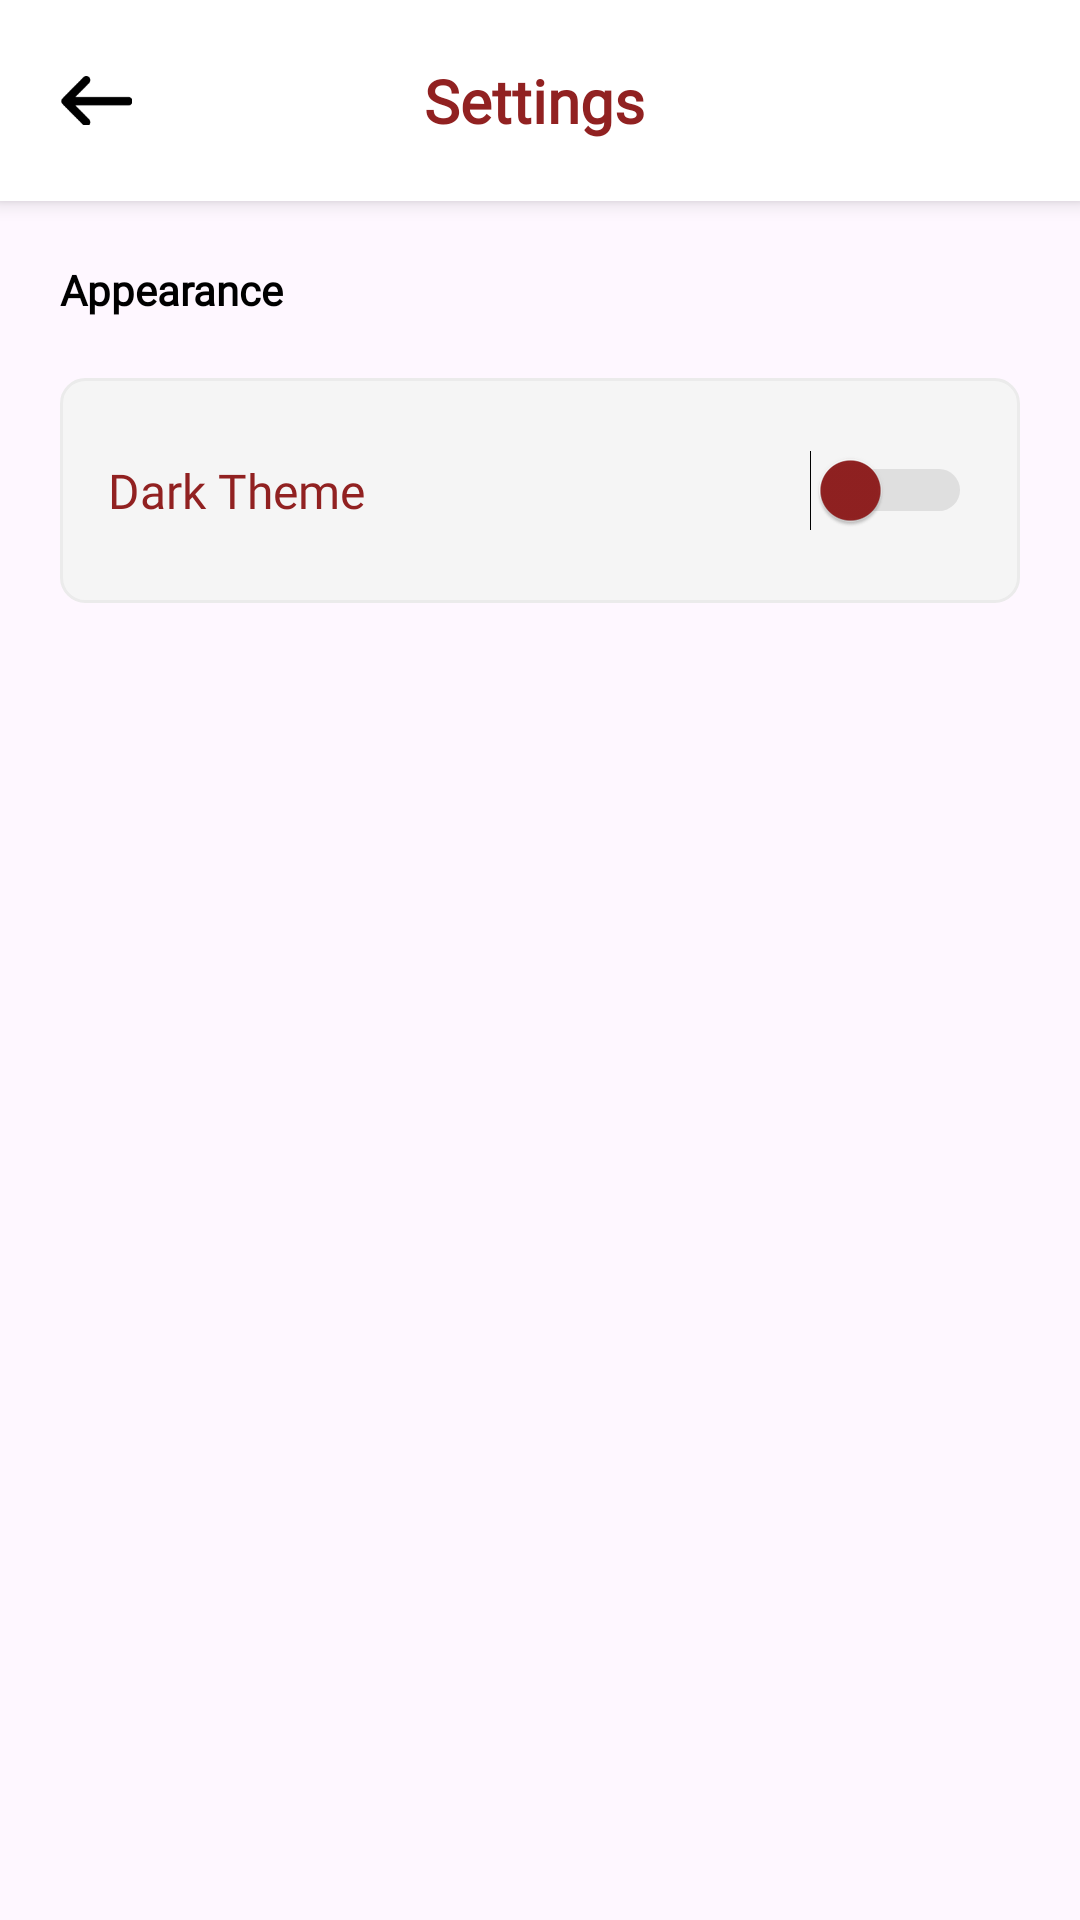

Point at icon controls on the screen. Image size 1080 × 1920, points as point (x, y).
Back: point (96, 100)
